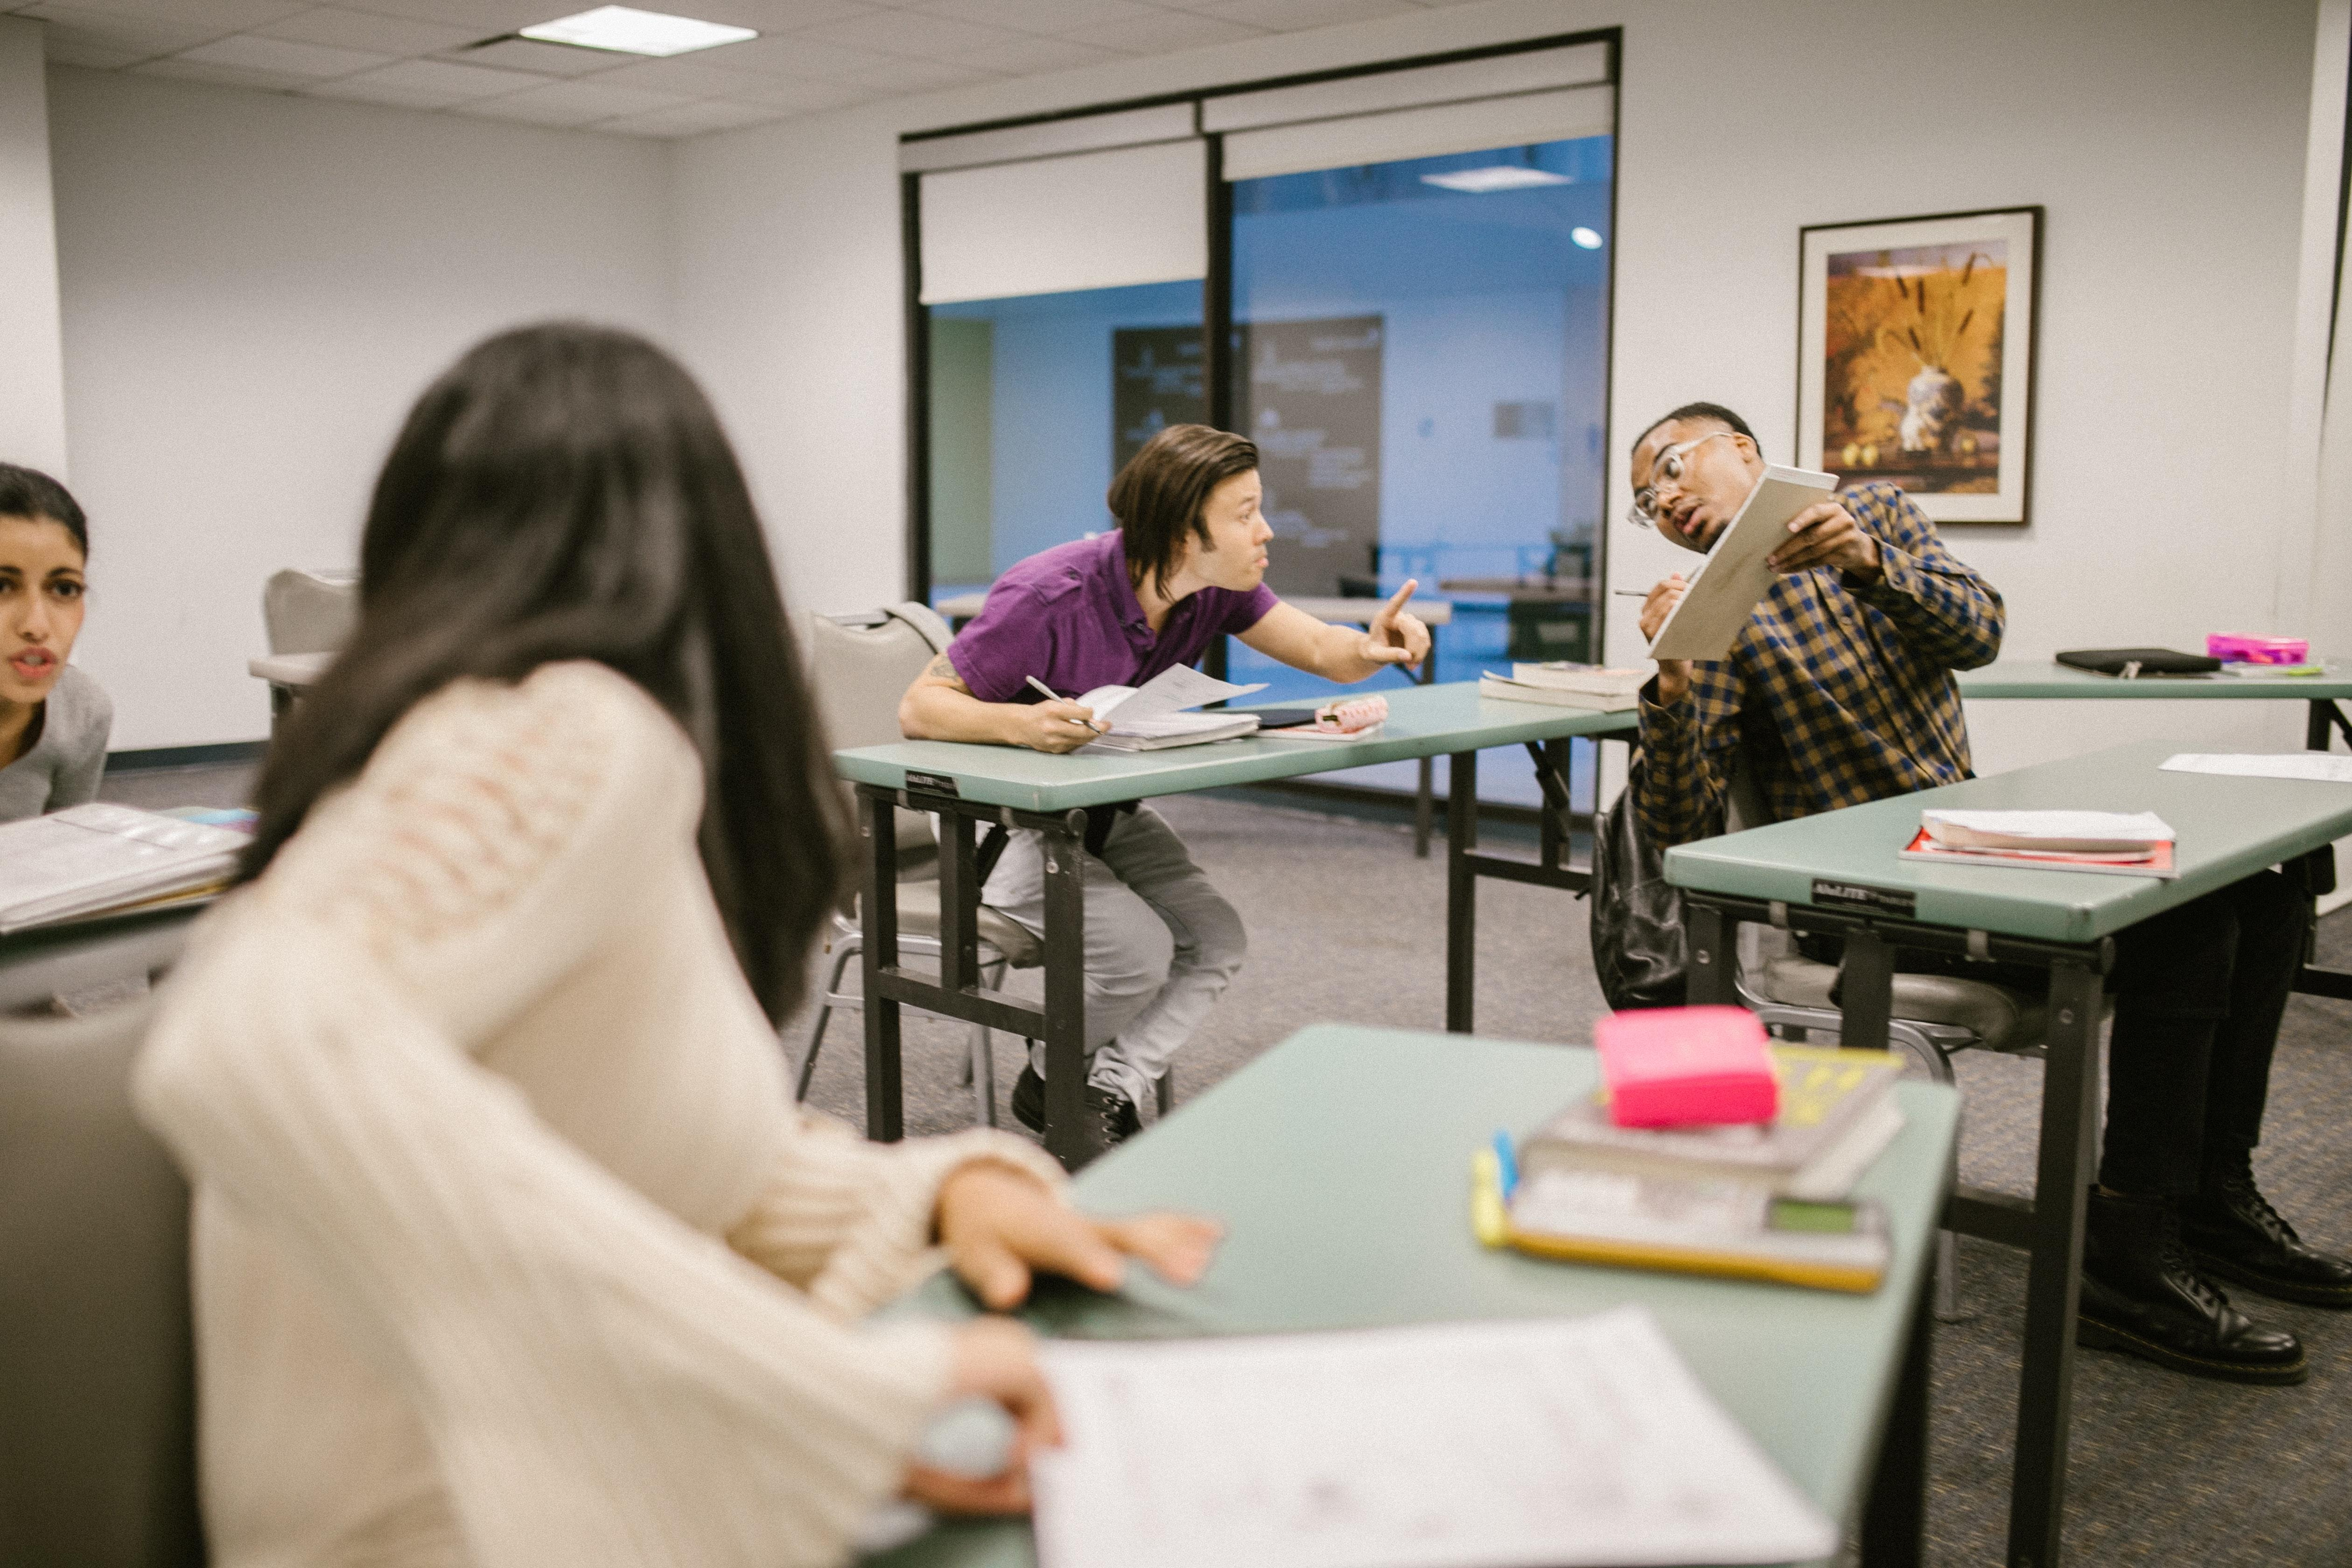cheating: (114, 285, 1270, 1568), (1531, 318, 2091, 1087), (898, 383, 1475, 798)
